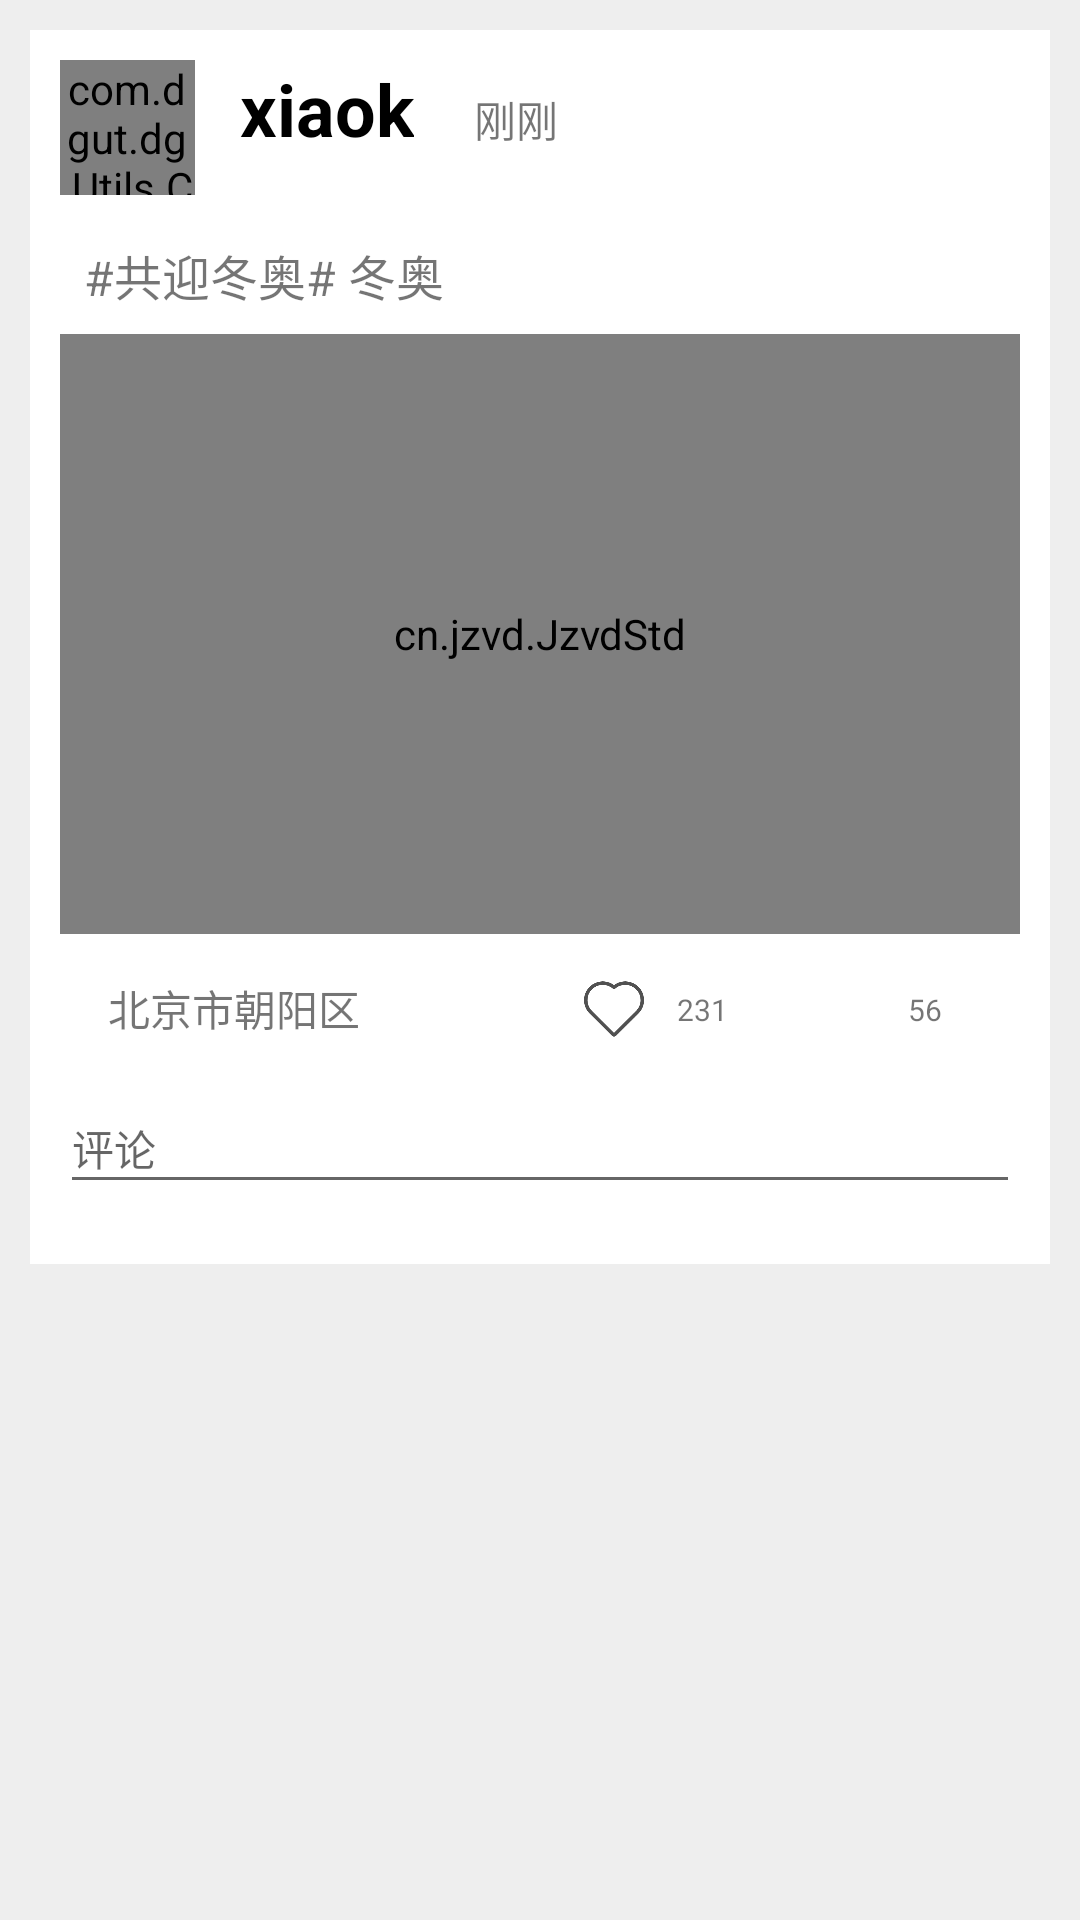

Where to tap for icons on this 1080px×1920px app screen, as (x,y):
heart: (614,1009)
